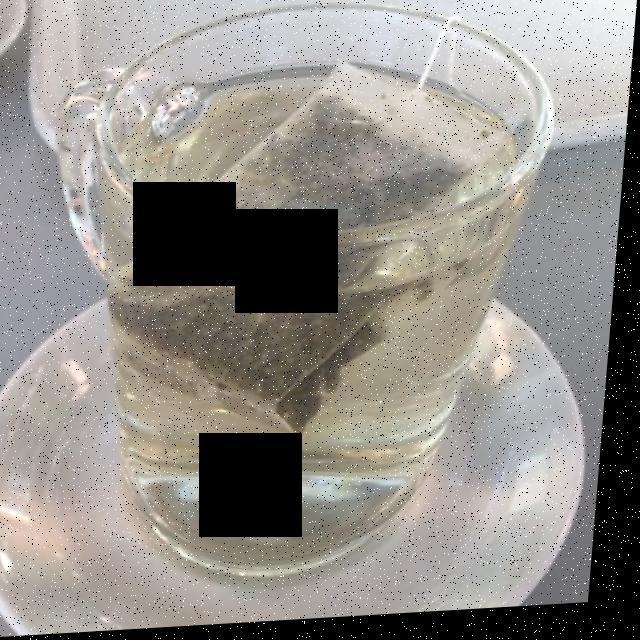tea: (111, 82, 530, 576)
